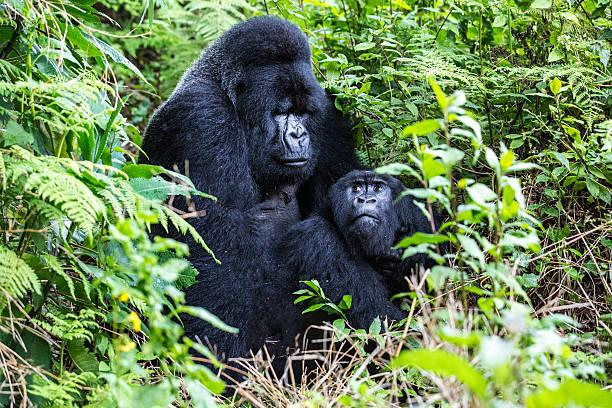goriile_montagne: (121, 0, 340, 212), (304, 162, 456, 337)
